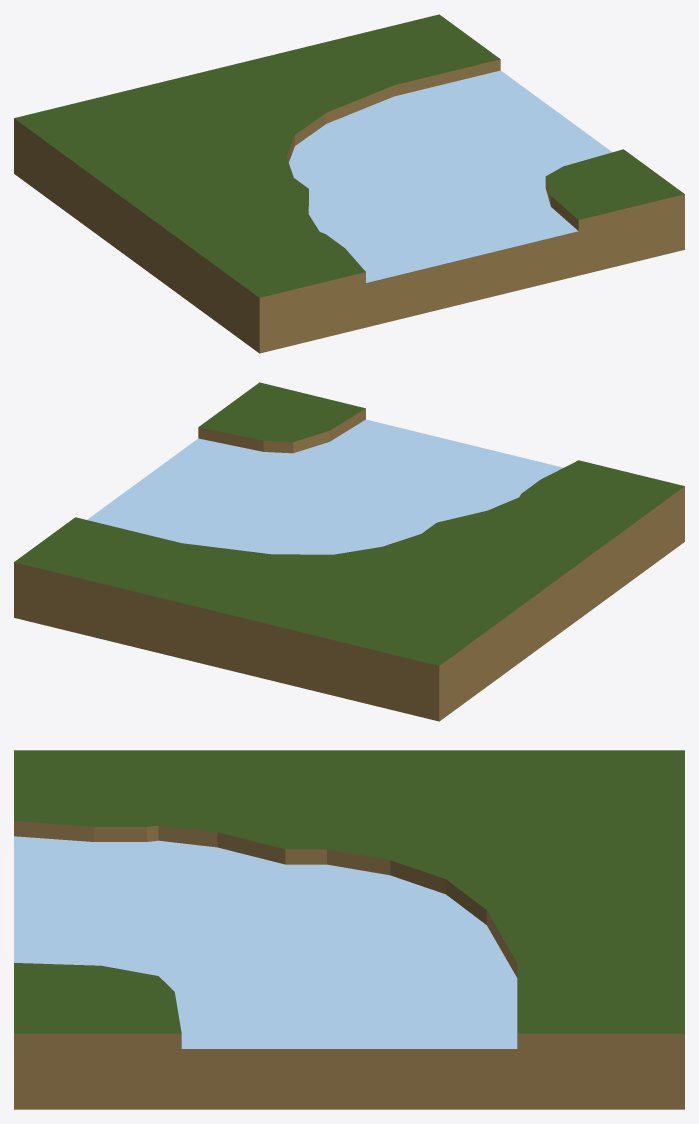
The model's file is Terrain_Tile_Grass_Dirt_River_Bend_03.fbx.
3 renders of one model, top to bottom at view 1: azimuth 30°, elevation 25°; view 2: azimuth 150°, elevation 25°; view 3: azimuth 270°, elevation 25°, orthographic. The views are drawn at different scales.
Parts seen in each view (by area): view 1: Terrain_Tile_Grass_Dirt_River_Bend_03; view 2: Terrain_Tile_Grass_Dirt_River_Bend_03; view 3: Terrain_Tile_Grass_Dirt_River_Bend_03.
Boxes of the visible parts, <box> form: Terrain_Tile_Grass_Dirt_River_Bend_03: <box>14,14,684,353</box>; Terrain_Tile_Grass_Dirt_River_Bend_03: <box>14,382,684,721</box>; Terrain_Tile_Grass_Dirt_River_Bend_03: <box>14,750,684,1109</box>.
Size of the model in its own units: 126 by 15.75 by 126.
